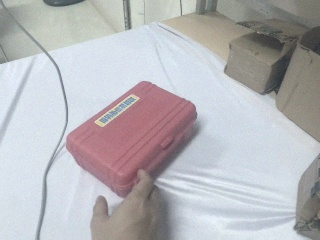box: (63, 77, 205, 193), (276, 25, 320, 144), (224, 32, 296, 95)
mouse: (42, 1, 85, 7)
